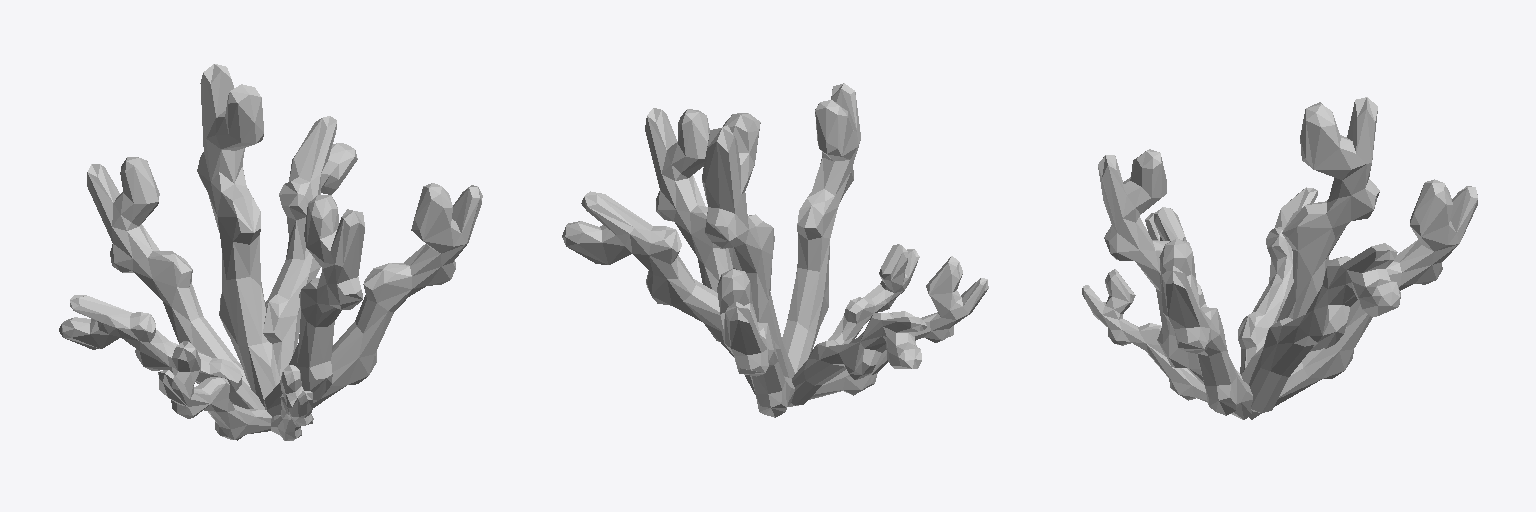
Rendered from kelp 1.obj.
3 views of the same model, side by side, from view 1: azimuth 30°, elevation 25°; view 2: azimuth 150°, elevation 25°; view 3: azimuth 270°, elevation 25° (orthographic).
Visible parts, largest first — view 1: node_id35; view 2: node_id35; view 3: node_id35.
Part boxes in pixels (x1,y1,x2,y2): node_id35: (59,64,482,440); node_id35: (562,83,988,417); node_id35: (1082,97,1477,419).
Bounding box in the file's own units: 9.53 × 8.4 × 9.44.